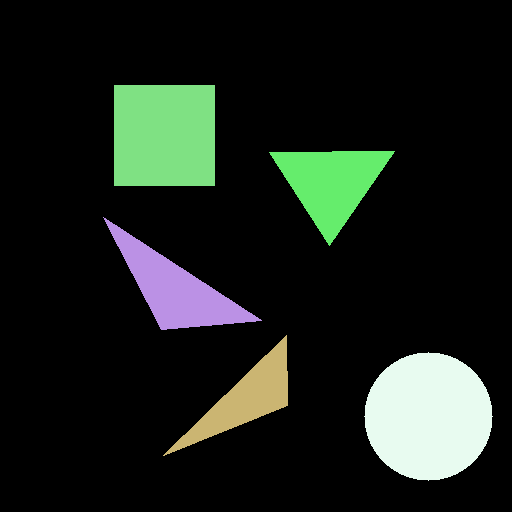circle: (364, 352, 492, 480)
square: (114, 85, 214, 185)
triangle: (103, 217, 261, 329), (163, 335, 287, 455), (269, 151, 394, 245)
